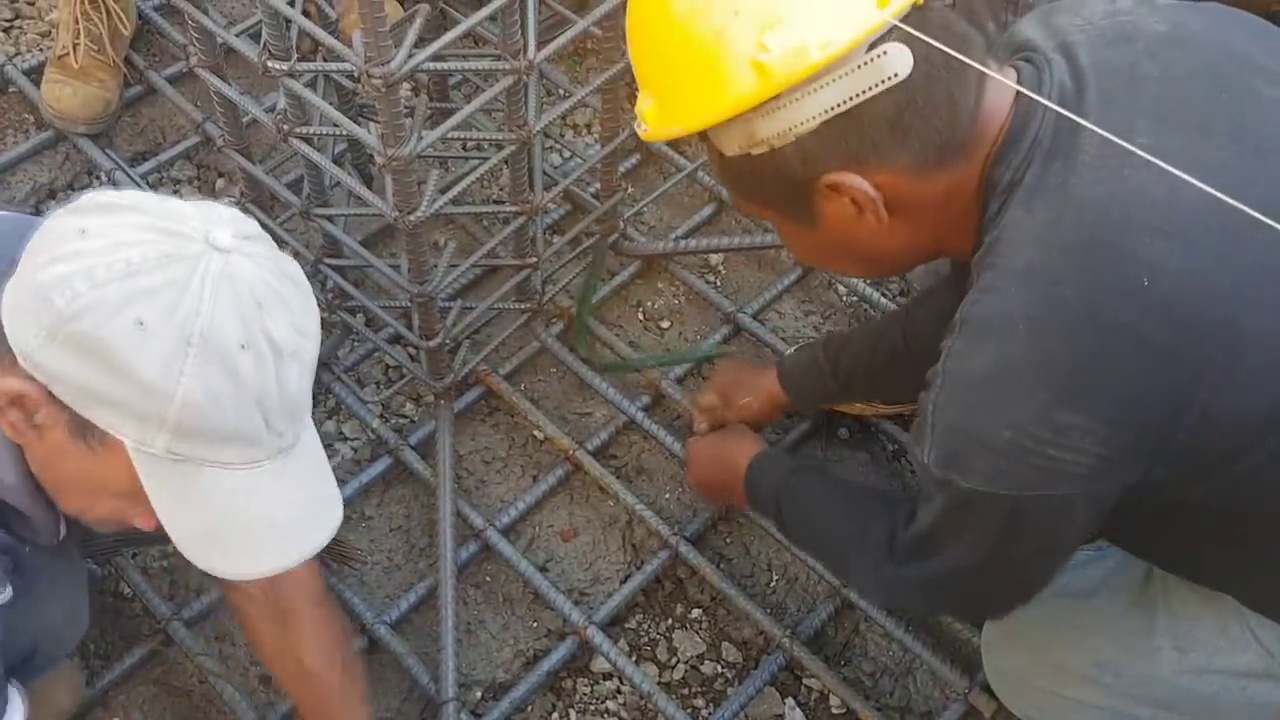helmet: (620, 2, 919, 150)
helmet-off: (7, 198, 348, 542)
helmet-on: (622, 0, 1046, 268)
person: (618, 9, 1280, 720), (1, 177, 380, 713)
